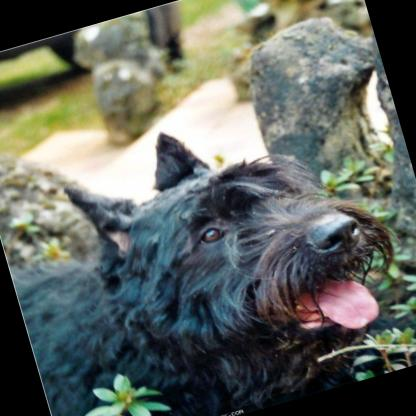Bouvier_des_Flandres: (0, 82, 415, 416)
